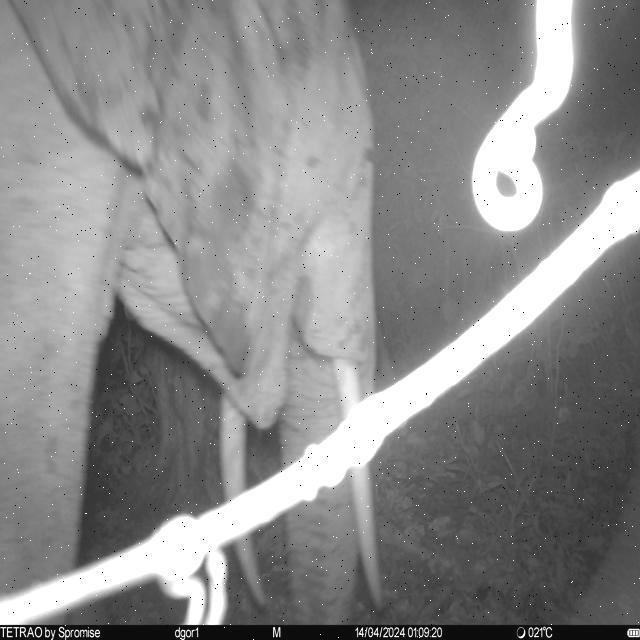ear: (12, 1, 298, 379)
elephant: (1, 0, 390, 628)
tusk: (332, 355, 387, 613), (218, 388, 271, 611)
